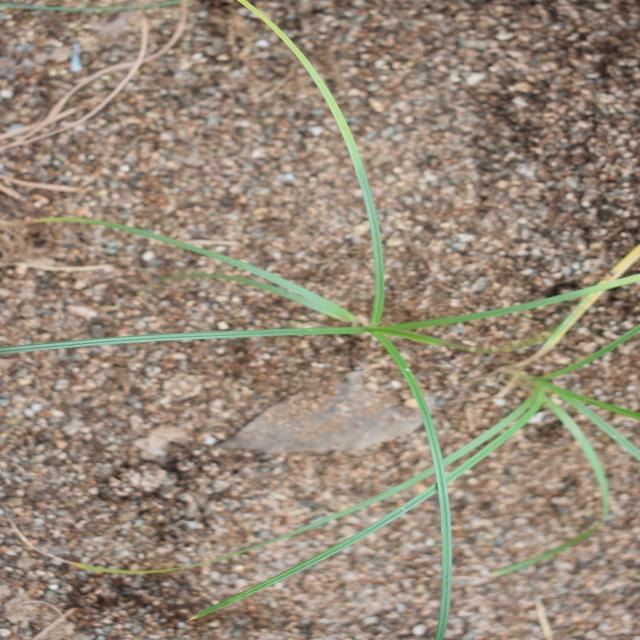sedge: (63, 66, 572, 574)
